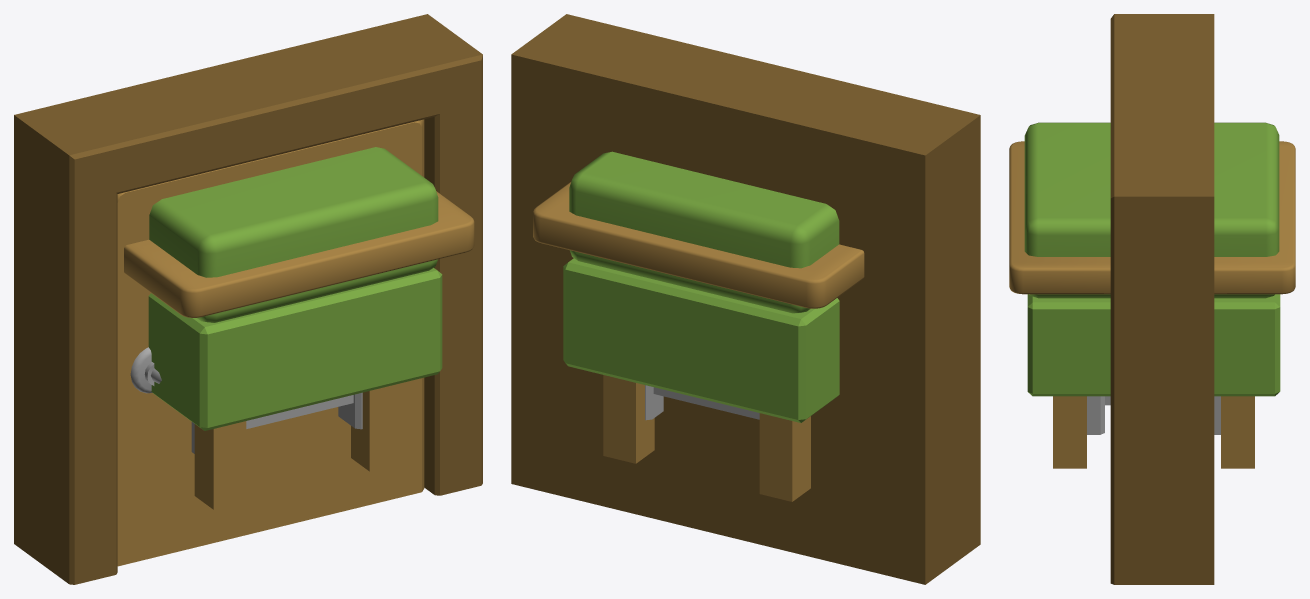
File: FurnitureSamples.fbx
3 views of the same model, side by side, from view 1: azimuth 30°, elevation 25°; view 2: azimuth 150°, elevation 25°; view 3: azimuth 270°, elevation 25° (orthographic). The views are drawn at different scales.
Visible parts, largest first — view 1: Door, Couch, Desk, GenericCube; view 2: Door, Couch, Desk, GenericCube; view 3: Door, Couch, Desk.
Boxes of the visible parts, x1,y1,x2,y2 form: Door: (14,14,482,584); Couch: (148,147,442,509); Desk: (124,191,474,453); GenericCube: (246,395,353,428); Door: (511,14,980,584); Couch: (563,151,839,501); Desk: (533,182,864,420); GenericCube: (653,387,759,419); Door: (1110,14,1214,584); Couch: (1024,122,1280,468); Desk: (1009,141,1295,434).
Bounding box in the file's own units: 54.8 × 54.3 × 36.27.
